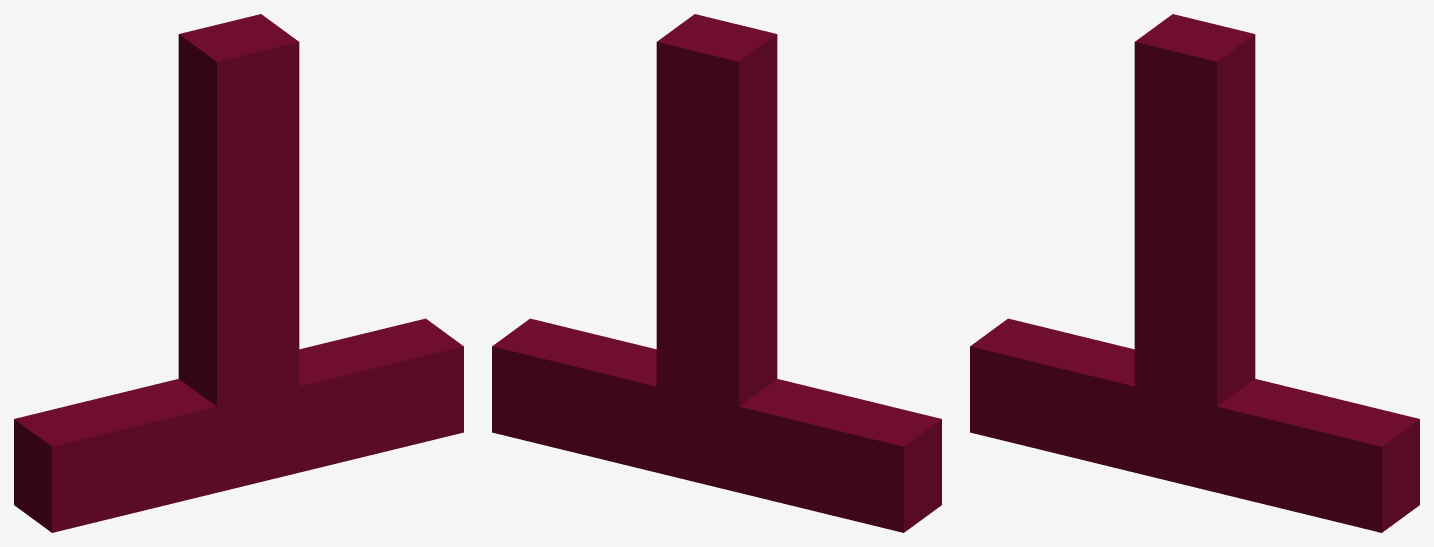
File: tbar.dae
3 renders of one model, left to right at view 1: azimuth 30°, elevation 25°; view 2: azimuth 150°, elevation 25°; view 3: azimuth 330°, elevation 25°, orthographic.
Visible parts, largest first — view 1: tbar; view 2: tbar; view 3: tbar.
Part boxes in pixels (bbox=[...]): tbar: bbox=[14, 14, 463, 532]; tbar: bbox=[492, 14, 941, 532]; tbar: bbox=[970, 14, 1419, 532].
Bounding box in the file's own units: 0.15 × 0.024 × 0.15.
